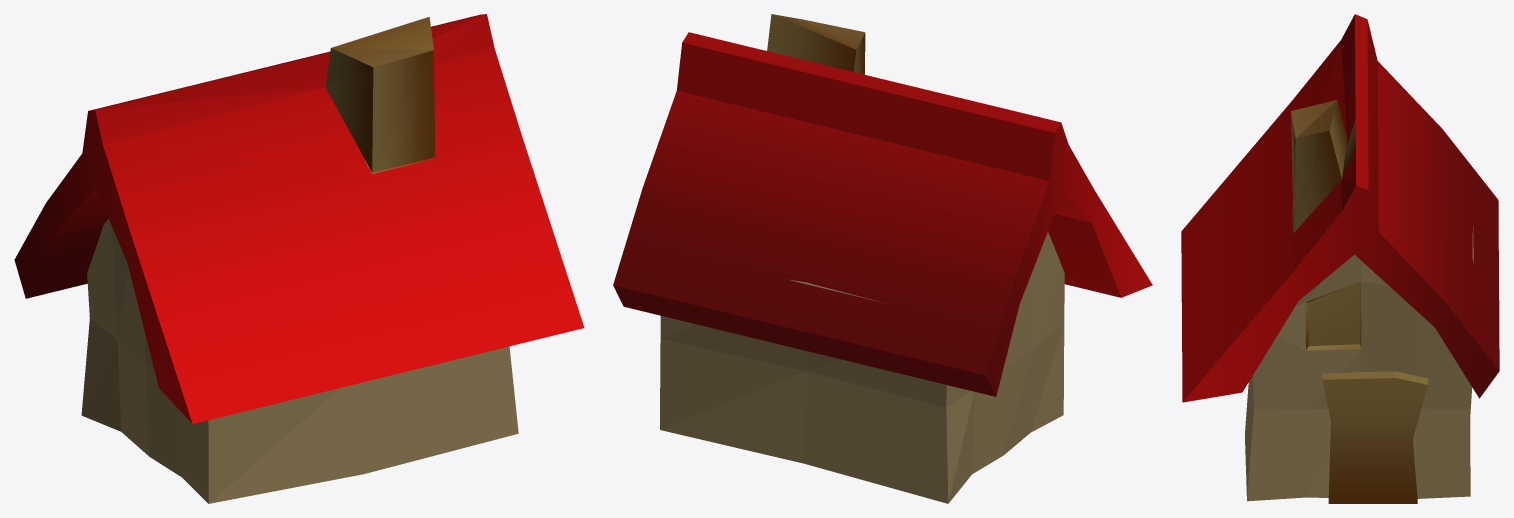
The model's file is haus_1.fbx.
3 renders of one model, left to right at view 1: azimuth 30°, elevation 25°; view 2: azimuth 150°, elevation 25°; view 3: azimuth 270°, elevation 25°, orthographic. The views are drawn at different scales.
Visible parts, largest first — view 1: dach, haus; view 2: dach, haus; view 3: dach, haus, door.
Boxes of the visible parts, x1,y1,x2,y2 form: dach: [14, 14, 584, 423]; haus: [81, 219, 518, 503]; dach: [613, 14, 1152, 396]; haus: [660, 232, 1064, 503]; dach: [1181, 14, 1499, 402]; haus: [1245, 226, 1473, 501]; door: [1322, 371, 1428, 503].
Size of the model in its own units: 1298 by 1246 by 1017.
